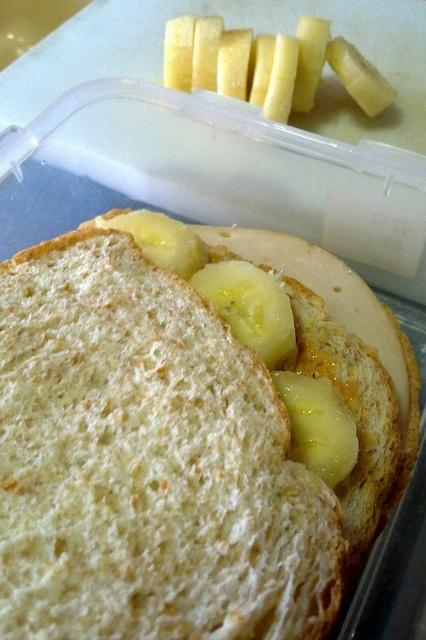banana: (187, 260, 297, 372), (268, 370, 360, 490), (95, 208, 210, 282), (326, 36, 397, 118), (291, 17, 331, 113), (264, 33, 300, 126), (216, 28, 253, 102), (163, 14, 196, 94), (191, 16, 223, 95), (247, 34, 276, 108)
